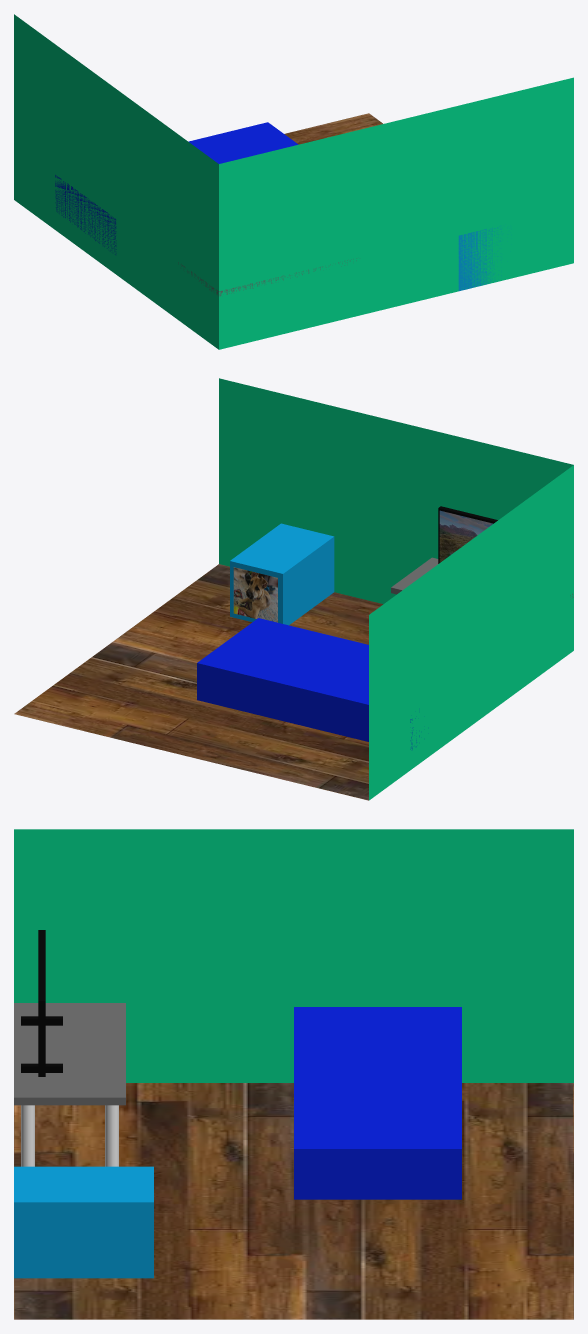
The model's file is House Scene.glb.
3 views of the same model, one above another, from view 1: azimuth 30°, elevation 25°; view 2: azimuth 150°, elevation 25°; view 3: azimuth 270°, elevation 25° (orthographic). The views are drawn at different scales.
Parts seen in each view (by area): view 1: Wall 2, Wall 1, bed, Kennel, Floor; view 2: Wall 2, Wall 1, Floor, bed, Kennel, Piper, Screen, Desktop; view 3: Wall 1, Floor, bed, Kennel, Desktop, Monitor, Desk pole, Desk pole.001.
Part boxes in pixels (x1,y1,x2,y2): Wall 2: (219,77,573,349); Wall 1: (14,14,218,349); bed: (55,122,298,254); Kennel: (458,226,501,291); Floor: (284,113,382,144); Wall 2: (219,378,573,603); Wall 1: (369,465,573,800); Floor: (14,564,383,800); bed: (197,618,419,749); Kennel: (230,523,334,625); Piper: (233,567,277,622); Screen: (439,510,493,562); Desktop: (391,557,573,599); Wall 1: (14,829,573,1082); Floor: (14,1083,573,1319); bed: (294,1007,461,1199); Kennel: (14,1166,153,1278); Desktop: (14,1003,125,1105); Monitor: (38,930,45,1076); Desk pole: (21,1105,34,1166); Desk pole.001: (105,1105,118,1166).
Size of the model in its own units: 40 by 20 by 40.
Materials: 9 (3 with a texture image).
